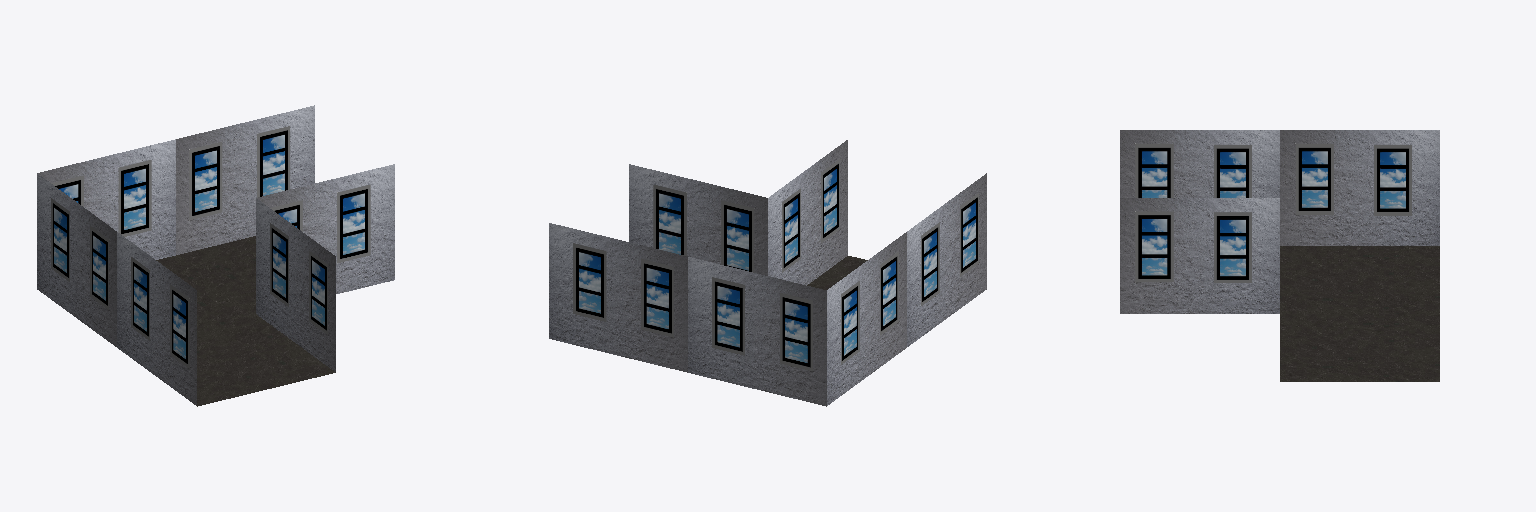
3 views of the same model, side by side, from view 1: azimuth 30°, elevation 25°; view 2: azimuth 150°, elevation 25°; view 3: azimuth 270°, elevation 25° (orthographic).
Visible parts, largest first — view 1: Wall2.001_Plane.003, Wall1.004_Plane.021, Wall1.002_Plane.028, Wall1.000_Plane.025, Wall1.001_Plane.027, Wall2.000_Plane.026, Floor.000_Plane.029, Floor.003_Plane.007, Floor.009_Plane.019; view 2: Wall2.001_Plane.003, Wall2.000_Plane.026, Wall1.004_Plane.021, Wall1.001_Plane.027, Wall1.002_Plane.028, Wall1.000_Plane.025, Floor.000_Plane.029; view 3: Wall1.000_Plane.025, Wall1.001_Plane.027, Floor.003_Plane.007, Floor.009_Plane.019, Wall1.002_Plane.028.
Part boxes in pixels (bbox=[...]): Wall2.001_Plane.003: bbox=[176, 105, 314, 254]; Wall1.004_Plane.021: bbox=[257, 164, 394, 293]; Wall1.002_Plane.028: bbox=[117, 232, 196, 405]; Wall1.000_Plane.025: bbox=[256, 198, 335, 371]; Wall1.001_Plane.027: bbox=[37, 173, 116, 346]; Wall2.000_Plane.026: bbox=[38, 139, 175, 259]; Floor.000_Plane.029: bbox=[197, 314, 335, 406]; Floor.003_Plane.007: bbox=[176, 236, 255, 313]; Floor.009_Plane.019: bbox=[156, 256, 254, 327]; Wall2.001_Plane.003: bbox=[549, 223, 687, 372]; Wall2.000_Plane.026: bbox=[688, 257, 826, 406]; Wall1.004_Plane.021: bbox=[629, 164, 767, 275]; Wall1.001_Plane.027: bbox=[827, 232, 906, 405]; Wall1.002_Plane.028: bbox=[907, 173, 986, 346]; Wall1.000_Plane.025: bbox=[768, 140, 847, 285]; Floor.000_Plane.029: bbox=[807, 256, 867, 289]; Wall1.000_Plane.025: bbox=[1120, 198, 1279, 313]; Wall1.001_Plane.027: bbox=[1280, 130, 1439, 245]; Floor.003_Plane.007: bbox=[1280, 314, 1439, 381]; Floor.009_Plane.019: bbox=[1280, 246, 1439, 313]; Wall1.002_Plane.028: bbox=[1120, 130, 1279, 197].
Size of the model in its own units: 4 by 1.6 by 4.
9 materials, 2 textured.